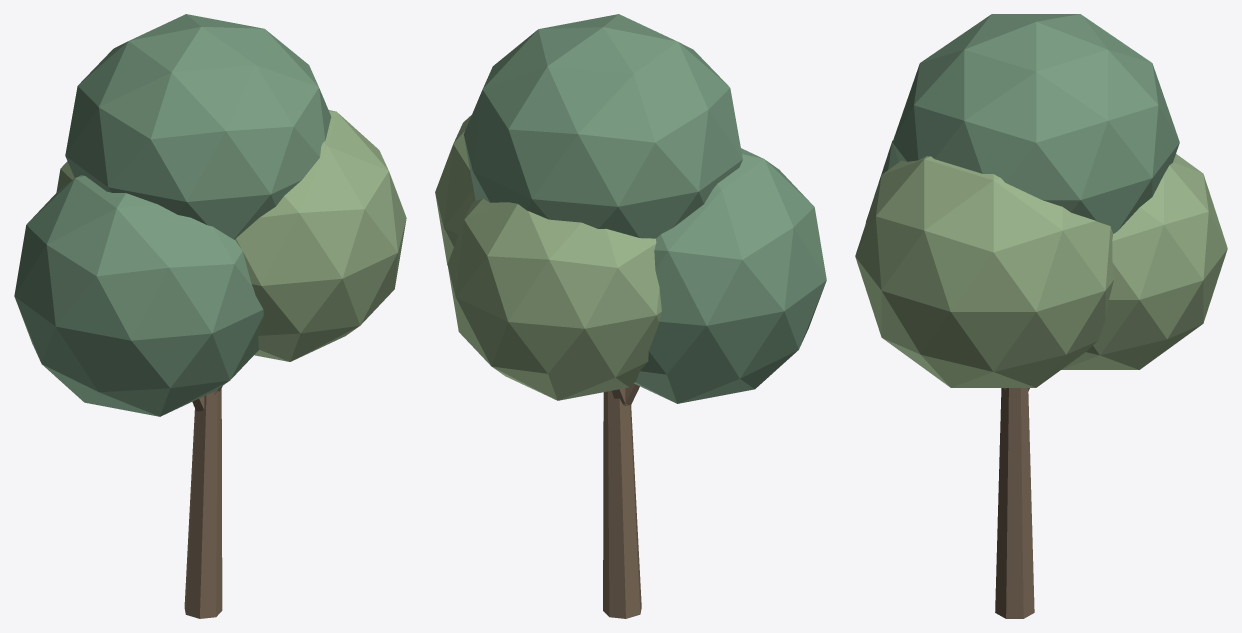
File: tree-broad.glb
3 renders of one model, left to right at view 1: azimuth 30°, elevation 25°; view 2: azimuth 150°, elevation 25°; view 3: azimuth 270°, elevation 25°, orthographic. The views are drawn at different scales.
Visible parts, largest first — view 1: CITY_tree_broad; view 2: CITY_tree_broad; view 3: CITY_tree_broad.
Boxes of the visible parts, x1,y1,x2,y2 form: CITY_tree_broad: (14,14,406,618); CITY_tree_broad: (435,14,826,618); CITY_tree_broad: (855,14,1227,618).
Size of the model in its own units: 3.87 by 6.15 by 3.5.
